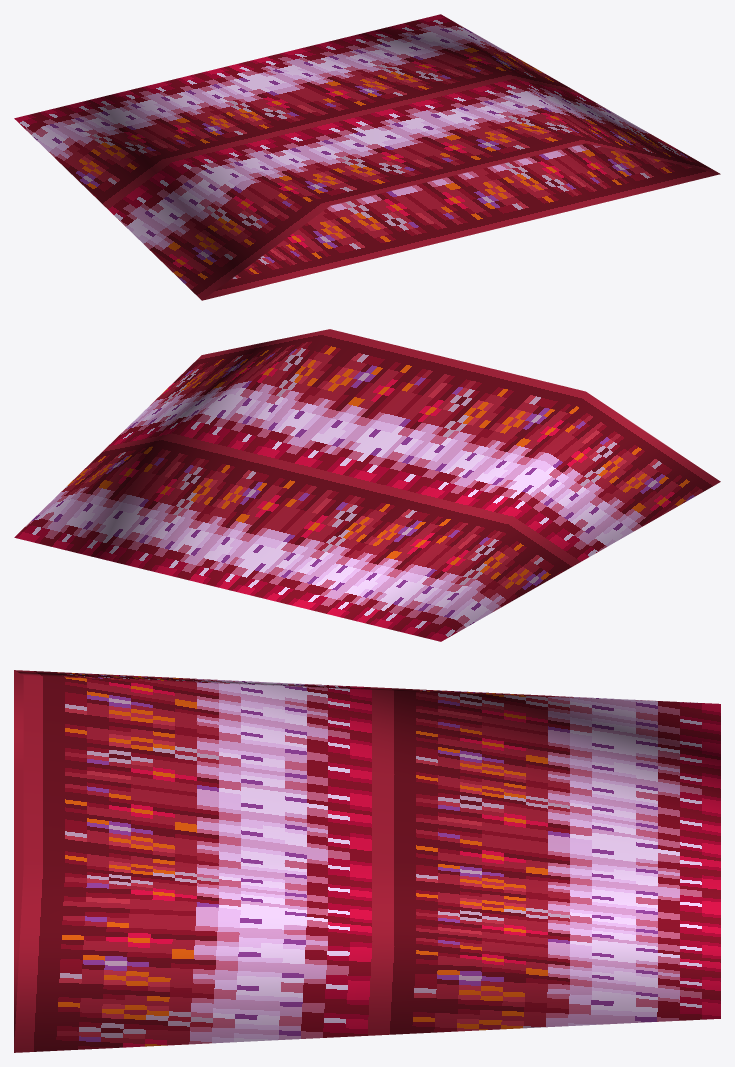
The model's file is 2339skirt00_c.gltf.
3 renders of one model, top to bottom at view 1: azimuth 30°, elevation 25°; view 2: azimuth 150°, elevation 25°; view 3: azimuth 270°, elevation 25°, orthographic. The views are drawn at different scales.
Parts seen in each view (by area): view 1: 2339skirt00_c; view 2: 2339skirt00_c; view 3: 2339skirt00_c.
Boxes of the visible parts, x1,y1,x2,y2 form: 2339skirt00_c: (14,14,720,300); 2339skirt00_c: (14,329,720,641); 2339skirt00_c: (14,670,720,1052).
Size of the model in its own units: 0.7896 by 0.0879 by 0.6162.
1 material, 1 textured.
